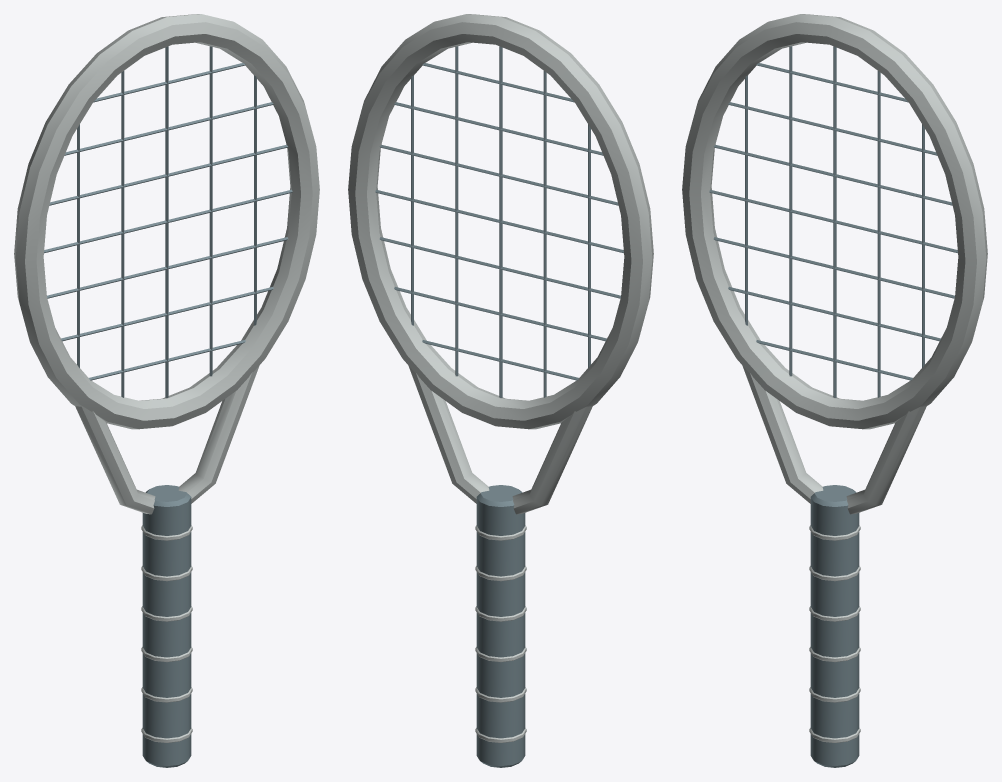
The model's file is tennis-racket.glb.
The picture shows the model from 3 angles, left to right: view 1: azimuth 30°, elevation 25°; view 2: azimuth 150°, elevation 25°; view 3: azimuth 330°, elevation 25°; orthographic projection.
Parts seen in each view (by area): view 1: oval_frame, grip, throat, vertical_string.002, vertical_string.003, vertical_string.001, horizontal_string.003, horizontal_string.002, horizontal_string.004, horizontal_string.001, horizontal_string.005, vertical_string.004 (+3 smaller); view 2: oval_frame, grip, throat, vertical_string.002, vertical_string.003, vertical_string.001, horizontal_string.003, horizontal_string.002, horizontal_string.004, horizontal_string.001, horizontal_string.005, vertical_string.004 (+3 smaller); view 3: oval_frame, grip, throat, vertical_string.002, vertical_string.001, vertical_string.003, horizontal_string.003, horizontal_string.002, horizontal_string.004, horizontal_string.001, horizontal_string.005, vertical_string (+3 smaller).
Part boxes in pixels (<box>): oval_frame: <box>14,14,319,429</box>; grip: <box>142,485,191,767</box>; throat: <box>75,365,259,514</box>; vertical_string.002: <box>165,46,168,397</box>; vertical_string.003: <box>209,46,212,376</box>; vertical_string.001: <box>121,71,124,397</box>; horizontal_string.003: <box>44,189,292,253</box>; horizontal_string.002: <box>47,237,288,298</box>; horizontal_string.004: <box>49,144,288,205</box>; horizontal_string.001: <box>61,287,273,341</box>; horizontal_string.005: <box>64,102,273,155</box>; vertical_string.004: <box>254,75,256,325</box>; oval_frame: <box>348,14,653,429</box>; grip: <box>476,485,525,767</box>; throat: <box>408,365,592,514</box>; vertical_string.002: <box>499,46,502,397</box>; vertical_string.003: <box>455,46,458,376</box>; vertical_string.001: <box>543,71,546,397</box>; horizontal_string.003: <box>375,189,623,253</box>; horizontal_string.002: <box>379,237,620,298</box>; horizontal_string.004: <box>379,144,618,205</box>; horizontal_string.001: <box>394,287,606,341</box>; horizontal_string.005: <box>394,102,603,155</box>; vertical_string.004: <box>411,75,413,325</box>; oval_frame: <box>682,14,987,429</box>; grip: <box>810,485,859,767</box>; throat: <box>742,365,926,514</box>; vertical_string.002: <box>833,46,836,397</box>; vertical_string.001: <box>789,46,792,376</box>; vertical_string.003: <box>877,71,880,397</box>; horizontal_string.003: <box>709,189,957,253</box>; horizontal_string.002: <box>713,237,954,298</box>; horizontal_string.004: <box>713,144,952,205</box>; horizontal_string.001: <box>728,287,940,341</box>; horizontal_string.005: <box>728,102,937,155</box>; vertical_string: <box>745,75,747,325</box>.
Size of the model in its own units: 0.274 by 0.642 by 0.04.
